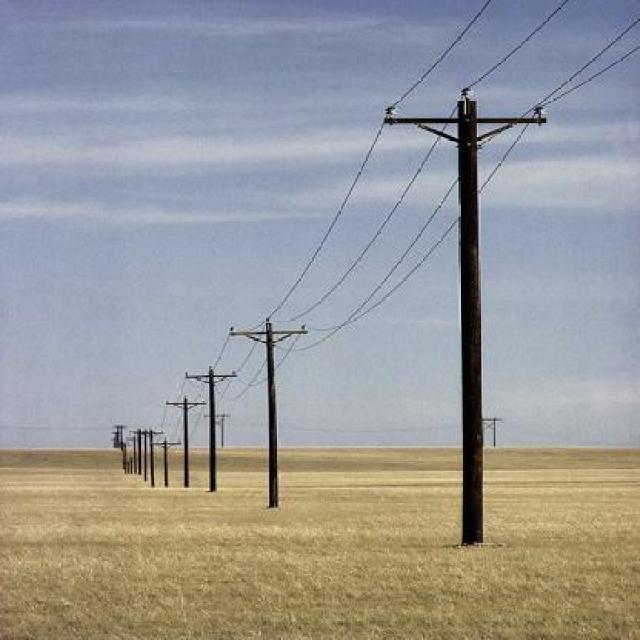pole: (382, 71, 552, 546), (240, 305, 306, 512), (169, 355, 231, 491)
